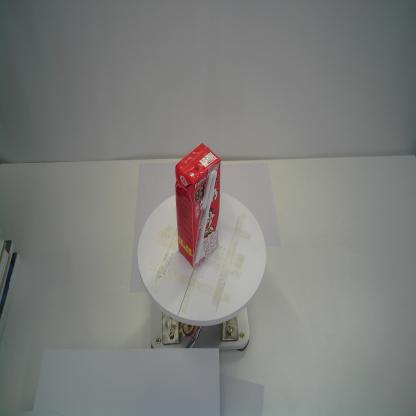Milk: (172, 140, 222, 273)
